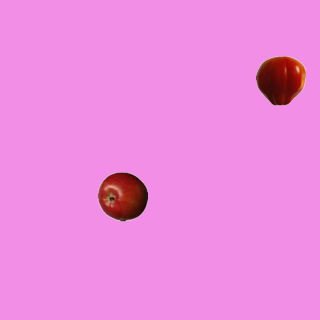Apple Braeburn: (97, 171, 147, 221)
Tomato 1: (255, 55, 305, 105)
